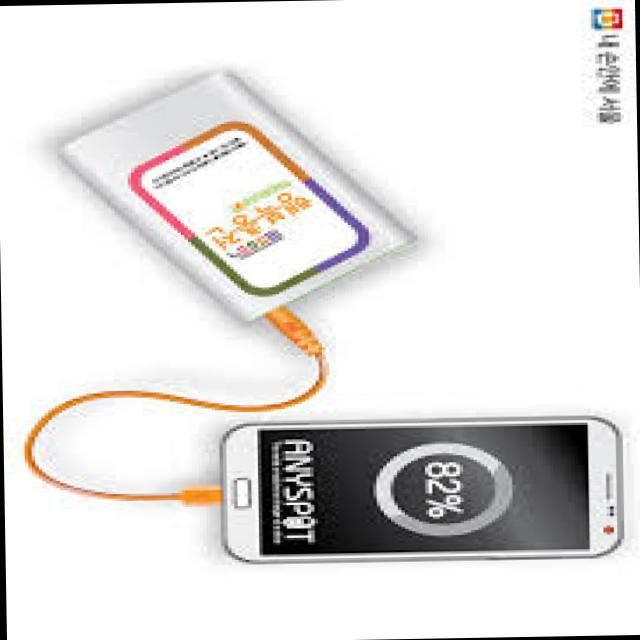portable-charger: (51, 60, 421, 331)
